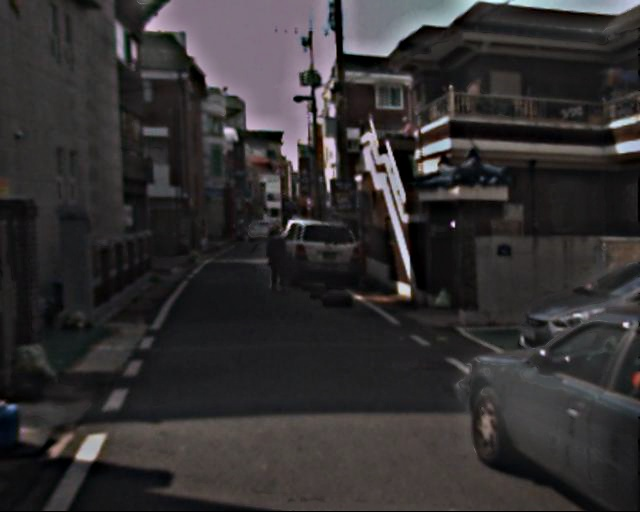person: (264, 227, 291, 292)
